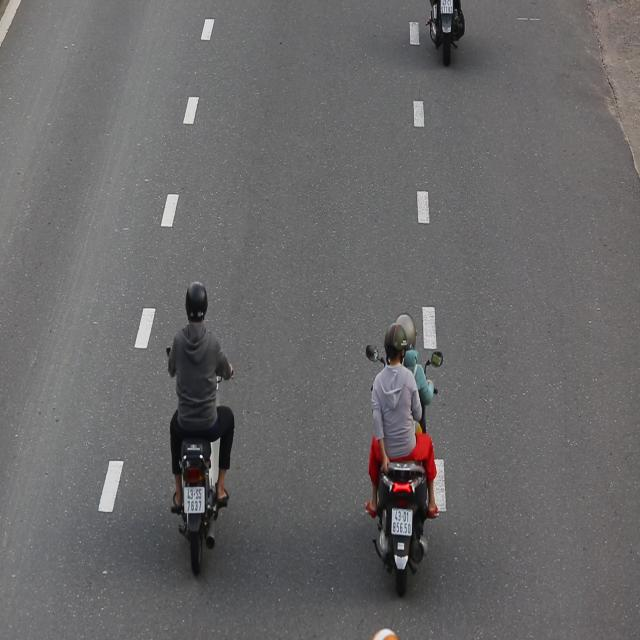motorbike: (359, 307, 443, 598), (164, 279, 238, 581)
